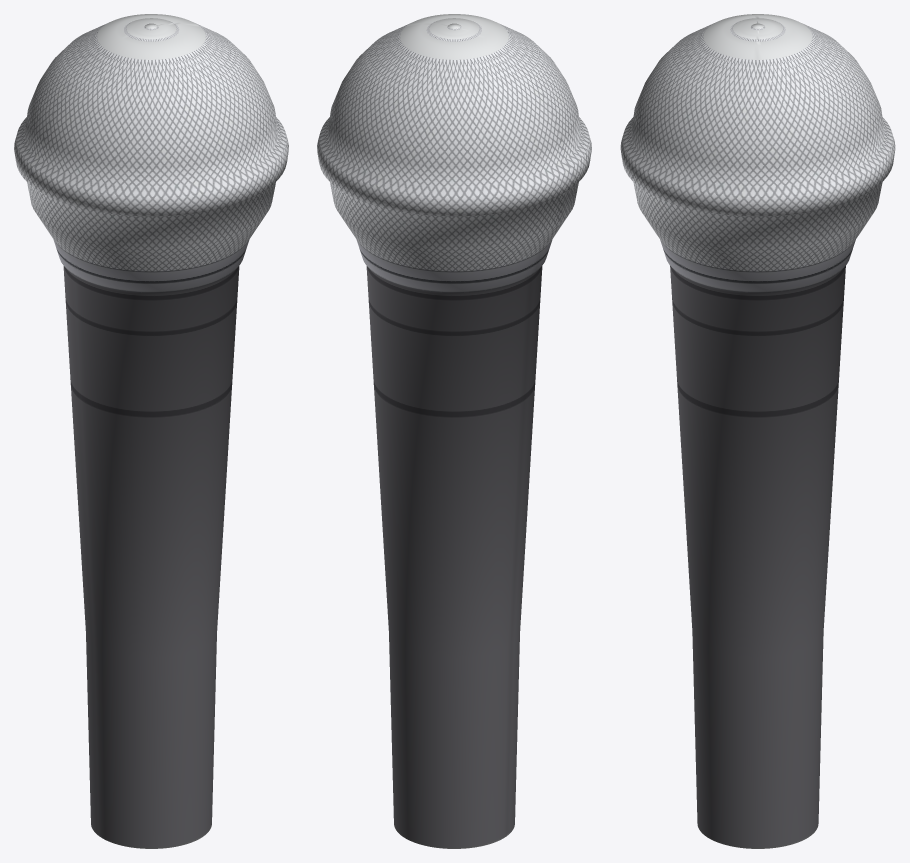
File: shure-beta-58a.glb
3 renders of one model, left to right at view 1: azimuth 30°, elevation 25°; view 2: azimuth 150°, elevation 25°; view 3: azimuth 270°, elevation 25°, orthographic.
Visible parts, largest first — view 1: shure-beta-58a-body; view 2: shure-beta-58a-body; view 3: shure-beta-58a-body.
Boxes of the visible parts, box(x1,y1,x2,y2) form: shure-beta-58a-body: box(14, 14, 288, 848); shure-beta-58a-body: box(317, 14, 591, 848); shure-beta-58a-body: box(620, 14, 895, 848).
Bounding box in the file's own units: 0.05 × 0.16 × 0.05.
Materials: 1 (1 with a texture image).
